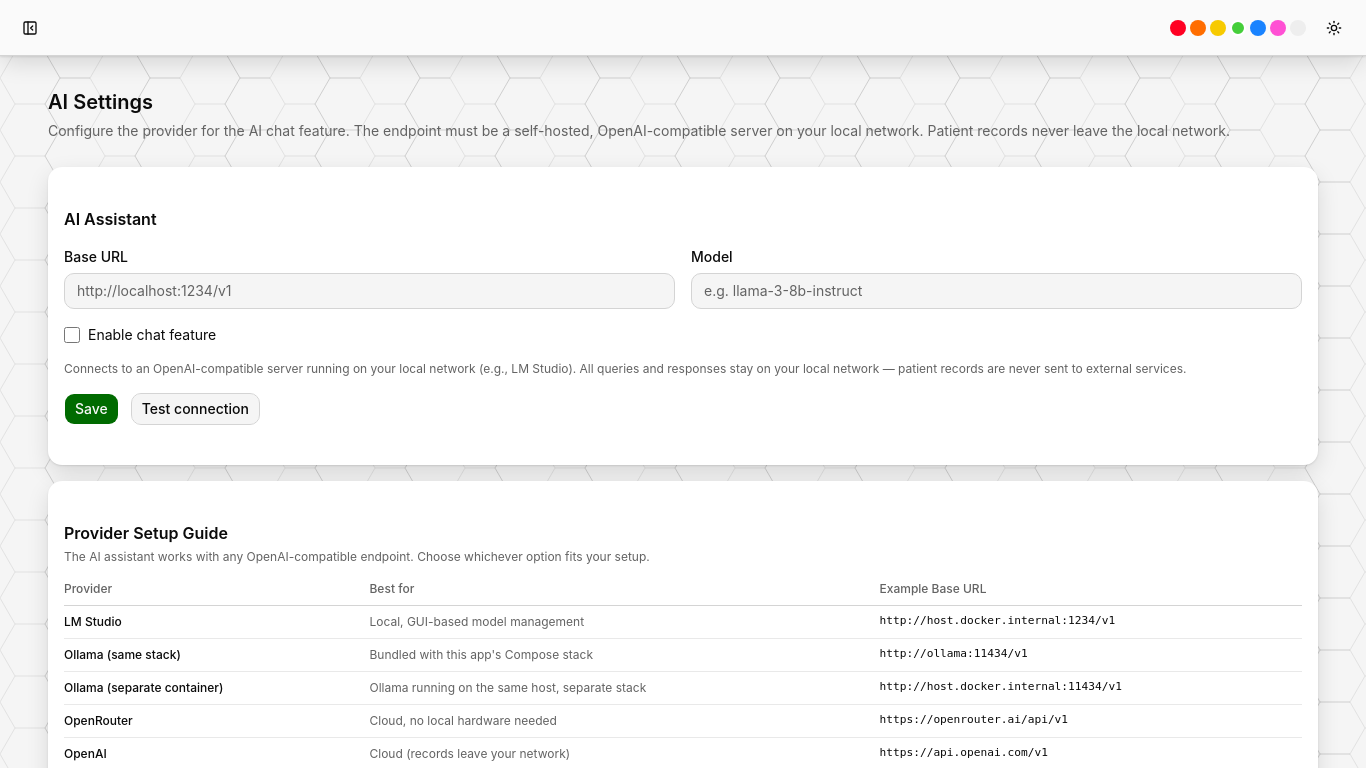
Test: SettingsPage › tests connection on Test
The width and height of the screenshot is (1366, 768).
Click the button "Test connection": [195, 409] box [131,393,260,425]
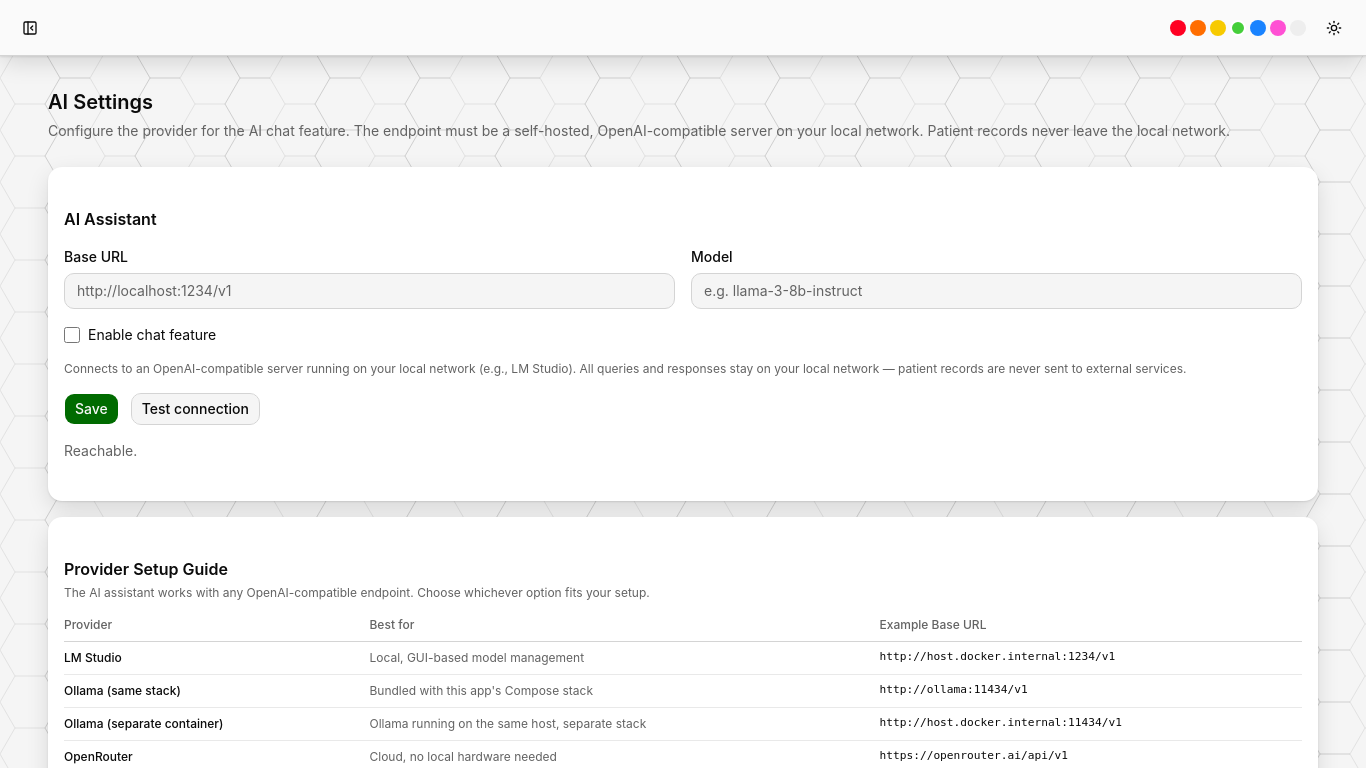
Result: the text "Reachable." is shown at [64,442,137,459]
